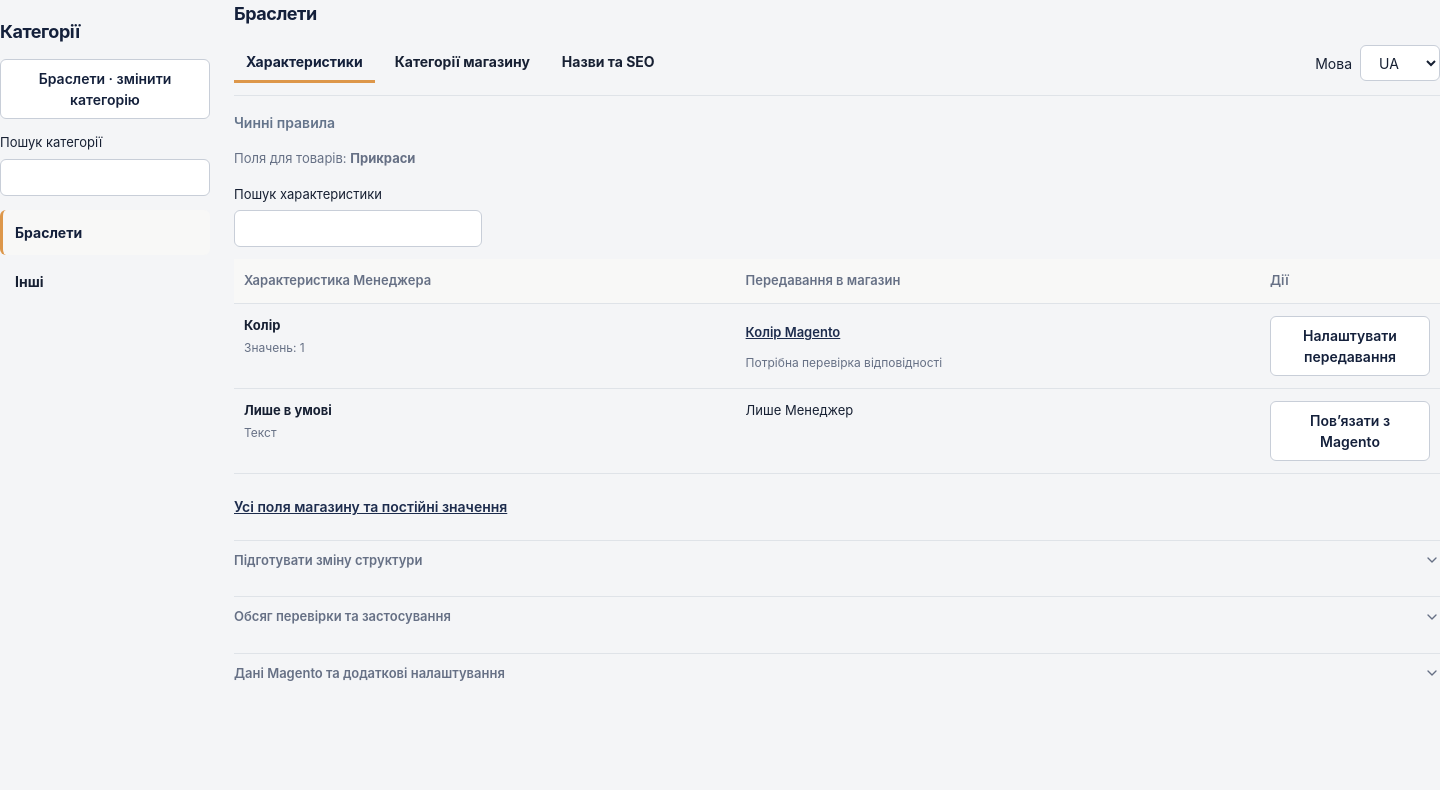
it: explains a review state and starts isolated binding review without requiring a fake rule edit
Click the button "Усі поля магазину та постійні значення" at (371, 506), box left=234, top=490, right=507, bottom=524
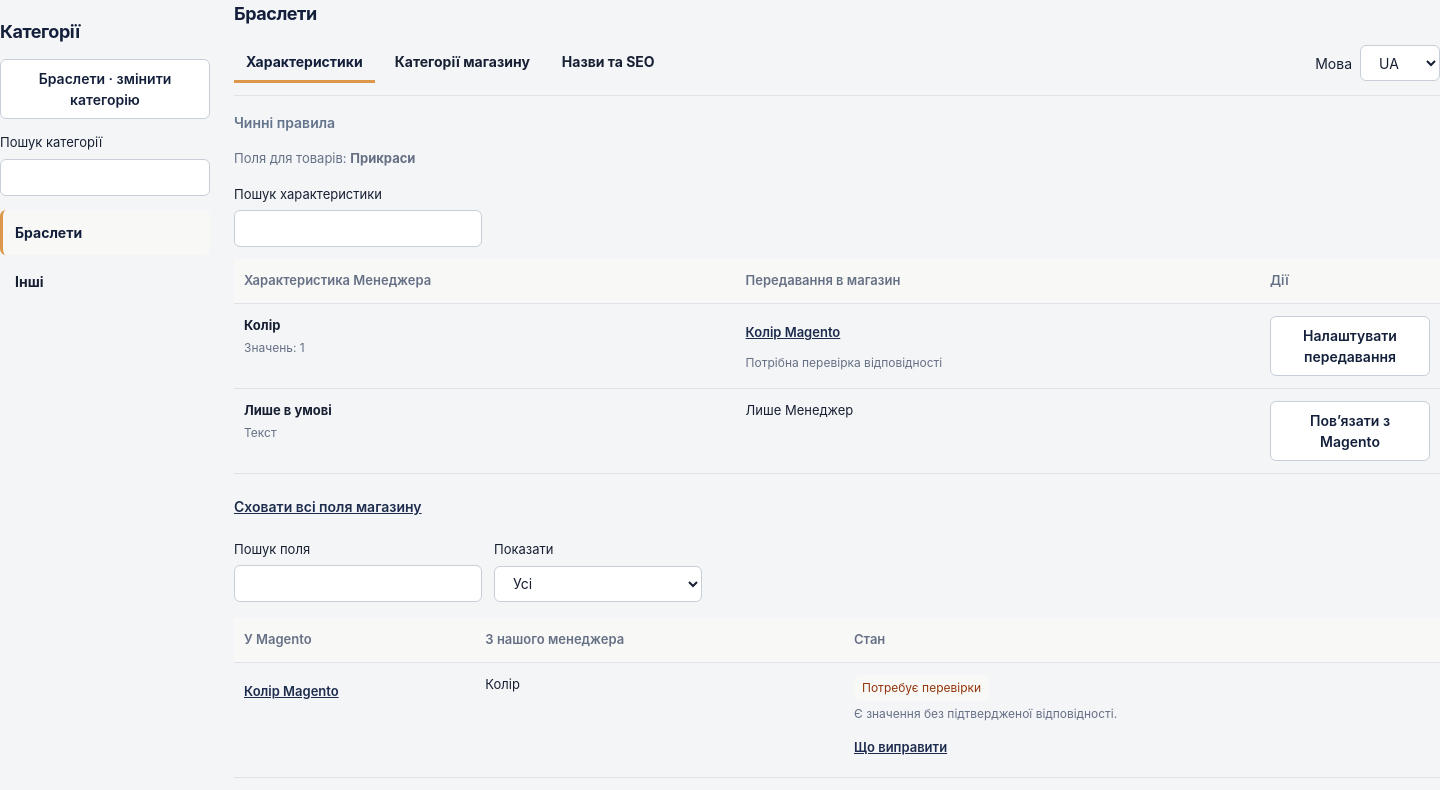
Click the button "Що виправити" at (901, 748), box left=854, top=730, right=947, bottom=764
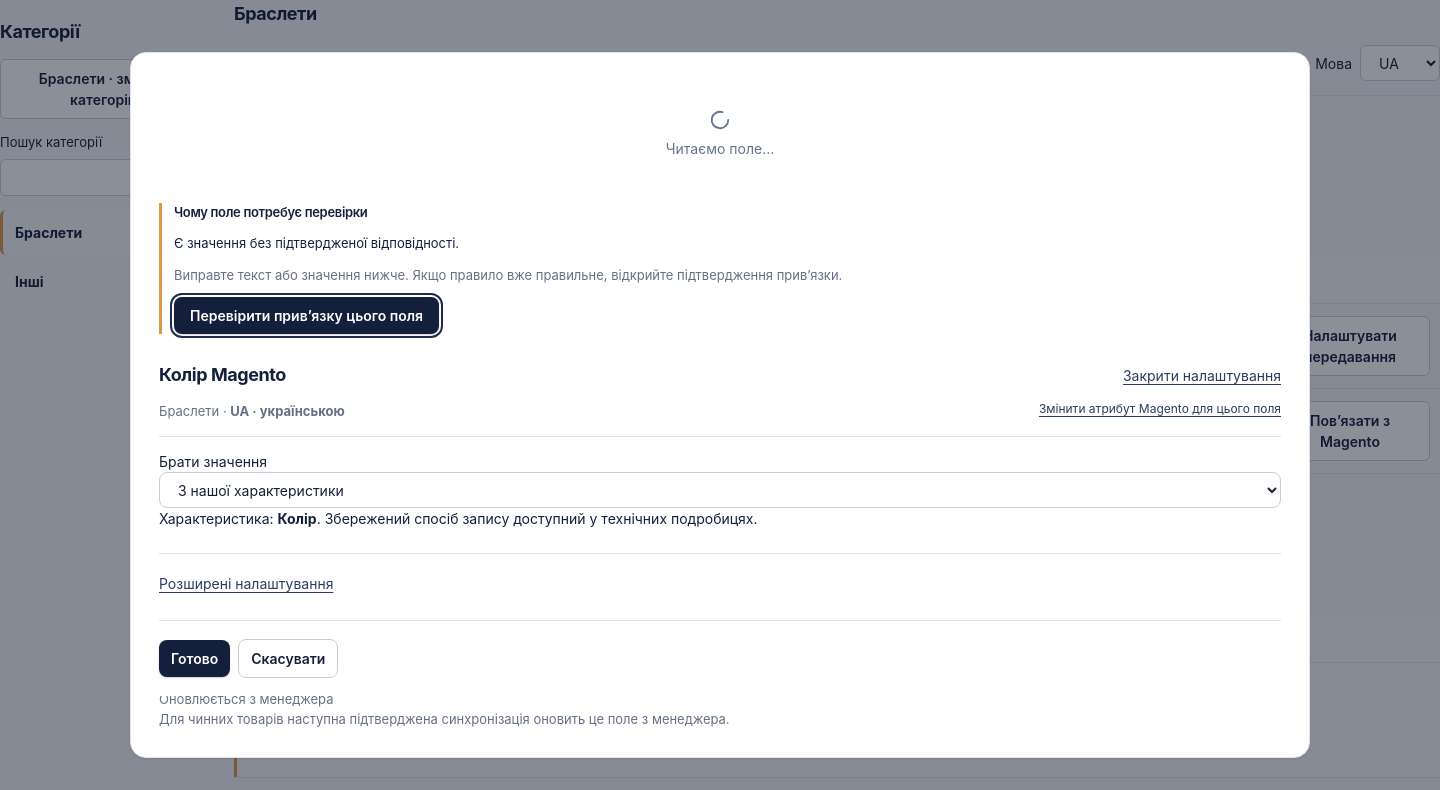
Expected: the element named "Що виправити в полі" is shown, left=159, top=203, right=1281, bottom=334
Click the button "Перевірити прив’язку цього поля" at (307, 316), box left=174, top=297, right=439, bottom=334
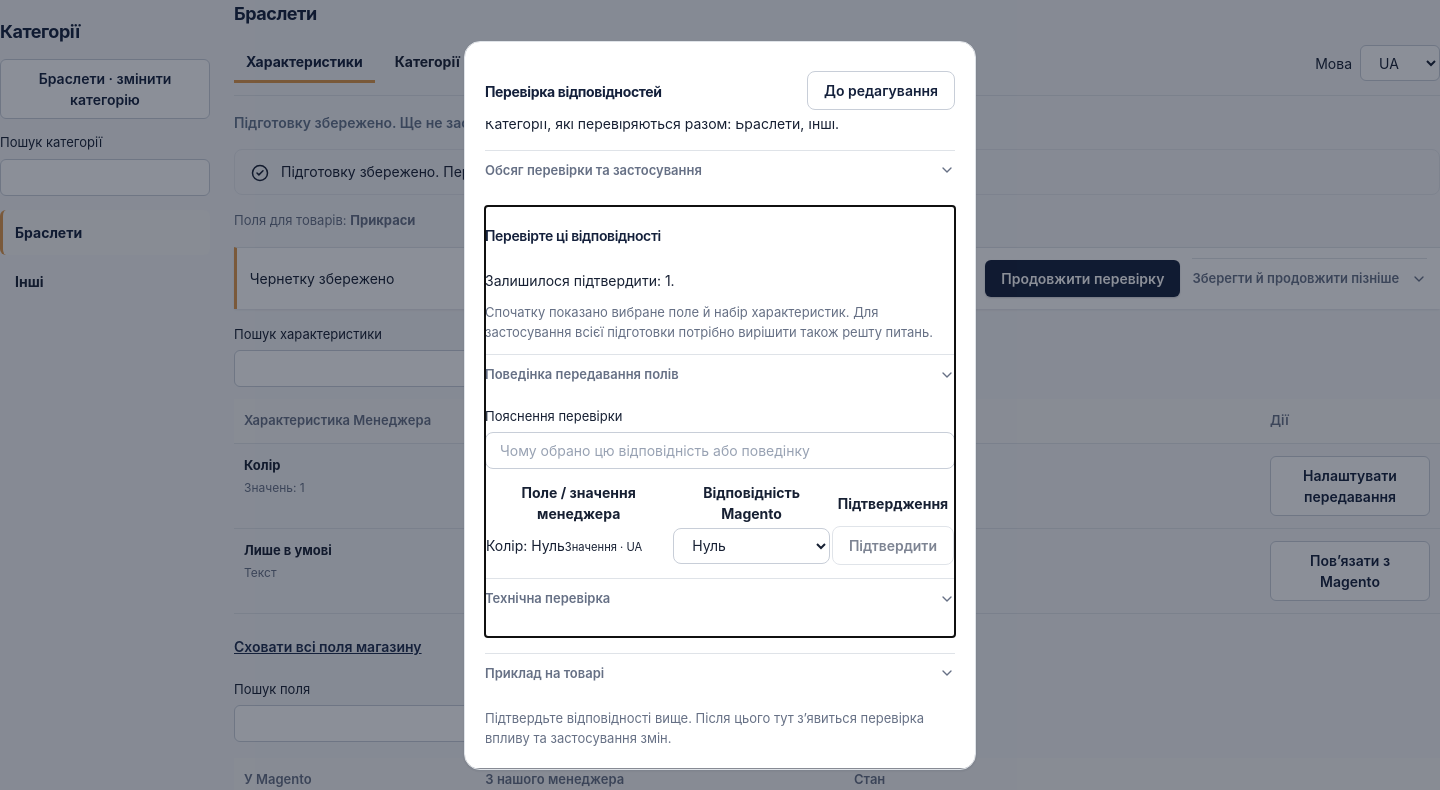
Expected: the element named "Перевірка підготовлених відповідностей" is shown, left=485, top=206, right=955, bottom=637
